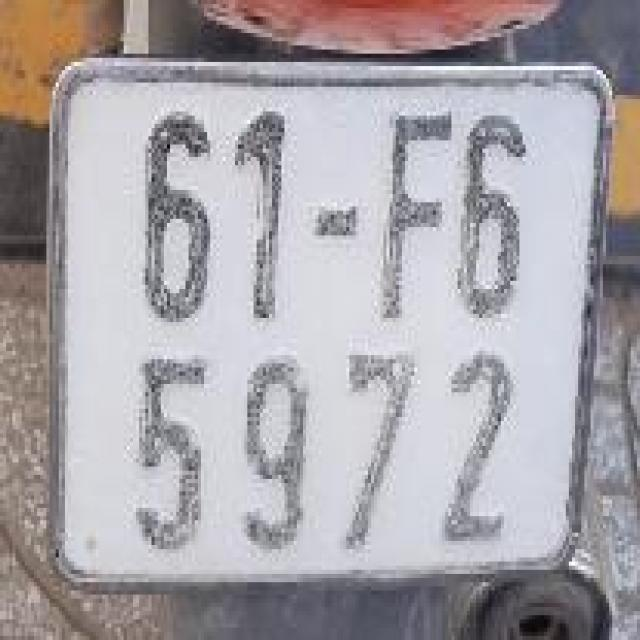1: (232, 89, 309, 336)
2: (436, 341, 513, 555)
5: (118, 341, 214, 572)
6: (124, 87, 225, 347), (464, 97, 547, 328)
7: (332, 327, 422, 558)
9: (233, 341, 314, 555)
F: (374, 97, 455, 320)
